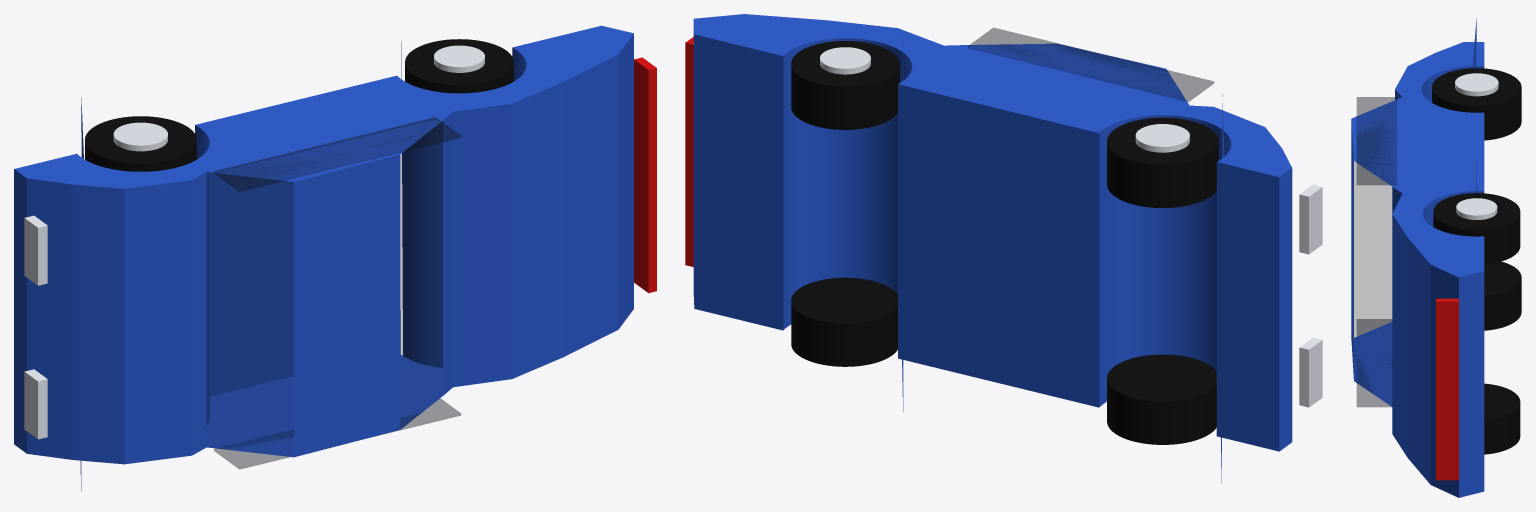
File: MuscleCar74.obj
The picture shows the model from 3 angles, left to right: view 1: azimuth 30°, elevation 25°; view 2: azimuth 150°, elevation 25°; view 3: azimuth 270°, elevation 25°; orthographic projection. The views are drawn at different scales.
Visible parts, largest first — view 1: Body, GLR, TL, WFR, WRR, GLL, HLA, HLB, HFR, HRR; view 2: Body, WFL, WRL, WFR, WRR, GLR, TL, HLA, HLB, HFR, HRR; view 3: Body, TL, WFR, WRR, GLR, WFL, WRL, GLL, HFR, HRR.
Part boxes in pixels (x1=…): Body: x1=14, y1=25, x2=633, y2=491; GLR: x1=214, y1=117, x2=460, y2=191; TL: x1=634, y1=57, x2=656, y2=293; WFR: x1=85, y1=116, x2=196, y2=171; WRR: x1=405, y1=39, x2=513, y2=93; GLL: x1=214, y1=398, x2=460, y2=469; HLA: x1=24, y1=369, x2=47, y2=439; HLB: x1=24, y1=215, x2=47, y2=285; HFR: x1=113, y1=122, x2=167, y2=151; HRR: x1=434, y1=45, x2=484, y2=72; Body: x1=693, y1=14, x2=1292, y2=483; WFL: x1=1107, y1=354, x2=1216, y2=444; WRL: x1=791, y1=277, x2=897, y2=366; WFR: x1=1107, y1=117, x2=1218, y2=207; WRR: x1=791, y1=41, x2=899, y2=129; GLR: x1=968, y1=28, x2=1213, y2=101; TL: x1=685, y1=37, x2=693, y2=266; HLA: x1=1299, y1=337, x2=1322, y2=407; HLB: x1=1299, y1=184, x2=1322, y2=254; HFR: x1=1135, y1=124, x2=1189, y2=152; HRR: x1=820, y1=47, x2=870, y2=74; Body: x1=1351, y1=18, x2=1484, y2=497; TL: x1=1436, y1=298, x2=1458, y2=480; WFR: x1=1432, y1=68, x2=1521, y2=140; WRR: x1=1433, y1=193, x2=1520, y2=264; GLR: x1=1357, y1=97, x2=1396, y2=184; WFL: x1=1484, y1=261, x2=1521, y2=330; WRL: x1=1484, y1=383, x2=1520, y2=454; GLL: x1=1357, y1=319, x2=1391, y2=406; HFR: x1=1455, y1=73, x2=1498, y2=96; HRR: x1=1456, y1=198, x2=1497, y2=219.
Bounding box in the file's own units: 4.49 × 2.8 × 1.33.
